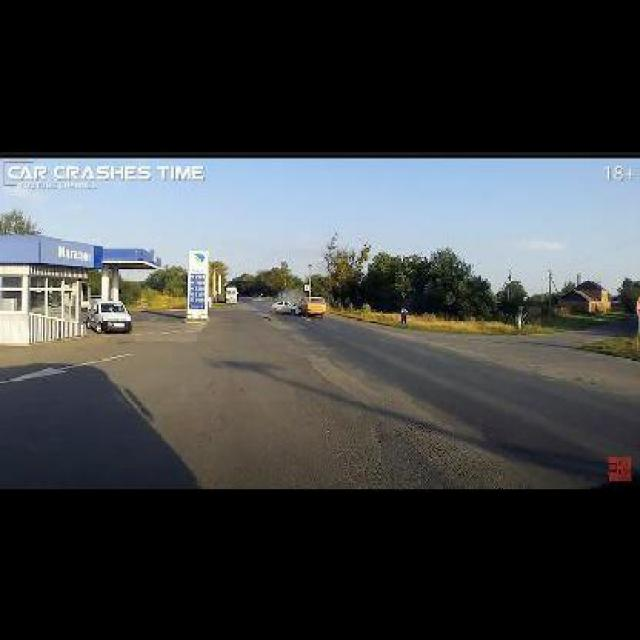accident: (269, 292, 331, 317)
